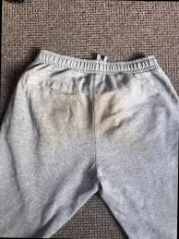earth: (100, 96, 118, 128), (60, 102, 69, 116)
